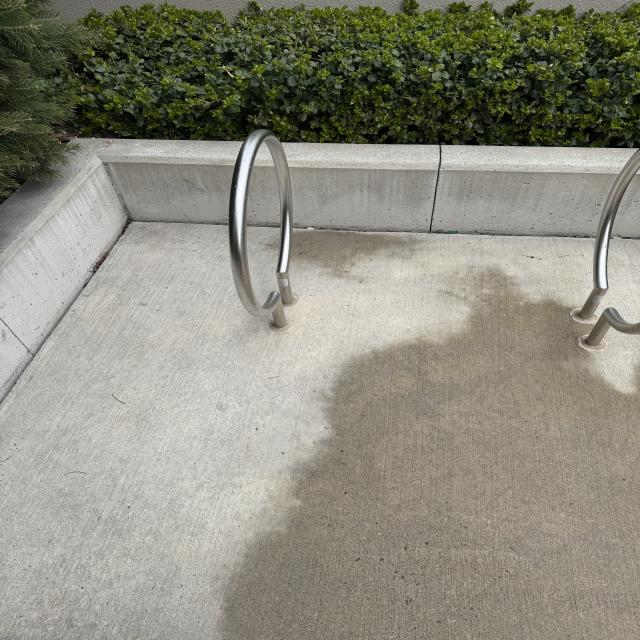Bicycle Rack: (568, 145, 640, 352), (226, 127, 297, 334)
